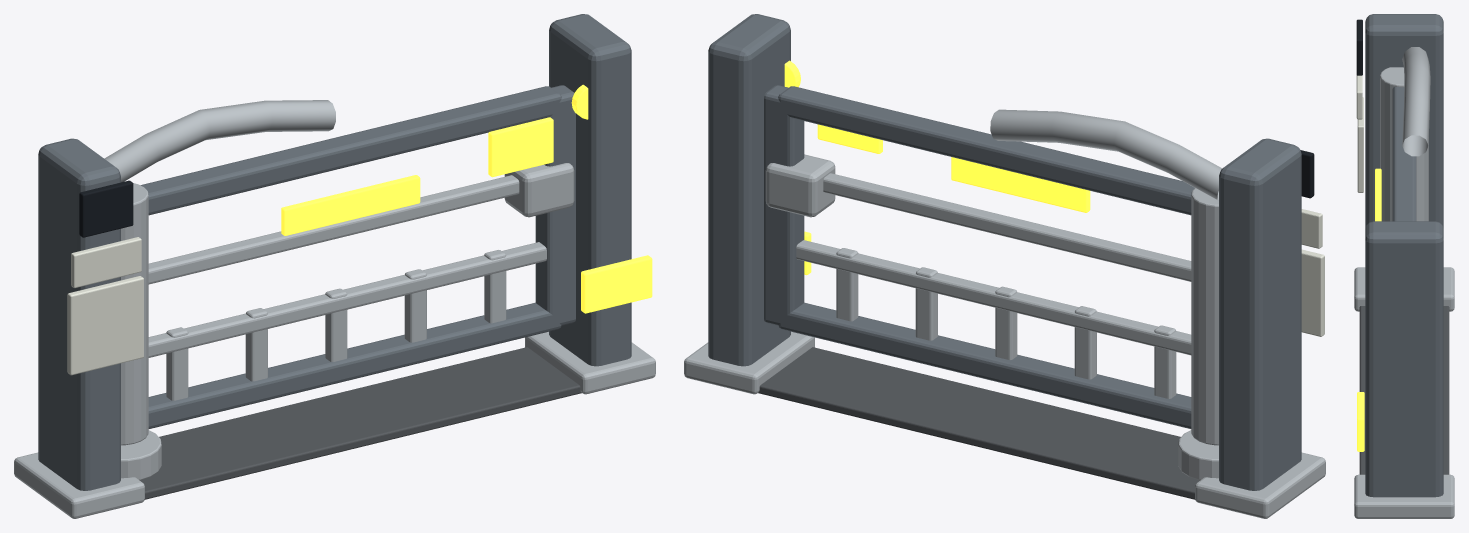
Rendered from state_variant_shared-world-accessibility-gate-locked-standard-310.glb.
The picture shows the model from 3 angles, left to right: view 1: azimuth 30°, elevation 25°; view 2: azimuth 150°, elevation 25°; view 3: azimuth 270°, elevation 25°; orthographic projection. The views are drawn at different scales.
Parts seen in each view (by area): view 1: component__flush_threshold__flush_threshold, component__anchored_gate_posts__left_gate_post, component__anchored_gate_posts__right_gate_post, component__accessible_gate_leaf__gate_top_rail, component__accessible_gate_leaf__gate_bottom_rail, component__accessible_gate_leaf__gate_horizontal_rail.001, component__closing_arm__closing_arm, component__accessible_gate_leaf__gate_horizontal_rail, component__wheelchair_height_push_plate__push_plate, component__accessible_gate_leaf__gate_latch_stile, component__closed_state_tab__closed_state_tab, component__hinge_barrel__hinge_barrel (+13 smaller); view 2: component__anchored_gate_posts__left_gate_post, component__flush_threshold__flush_threshold, component__anchored_gate_posts__right_gate_post, component__accessible_gate_leaf__gate_top_rail, component__accessible_gate_leaf__gate_bottom_rail, component__accessible_gate_leaf__gate_horizontal_rail, component__accessible_gate_leaf__gate_horizontal_rail.001, component__closing_arm__closing_arm, component__hinge_barrel__hinge_barrel, component__accessible_gate_leaf__gate_latch_stile, component__anchored_gate_posts__left_anchor, component__anchored_gate_posts__right_anchor (+11 smaller); view 3: component__anchored_gate_posts__right_gate_post, component__anchored_gate_posts__left_gate_post, component__hinge_barrel__hinge_barrel, component__closing_arm__closing_arm, component__anchored_gate_posts__right_anchor, component__accessible_gate_leaf__gate_top_rail, component__flush_threshold__flush_threshold, component__anchored_gate_posts__left_anchor, component__wheelchair_height_push_plate__push_plate, component__emergency_override__emergency_override, component__card_reader__card_reader, component__closed_state_tab__closed_state_tab (+1 smaller).
Boxes of the visible parts, x1,y1,x2,y2 form: component__flush_threshold__flush_threshold: [140, 347, 581, 499]; component__anchored_gate_posts__left_gate_post: [38, 138, 120, 490]; component__anchored_gate_posts__right_gate_post: [549, 14, 631, 366]; component__accessible_gate_leaf__gate_top_rail: [140, 86, 561, 215]; component__accessible_gate_leaf__gate_bottom_rail: [148, 302, 561, 428]; component__accessible_gate_leaf__gate_horizontal_rail.001: [148, 242, 546, 357]; component__closing_arm__closing_arm: [104, 100, 335, 182]; component__accessible_gate_leaf__gate_horizontal_rail: [148, 175, 519, 284]; component__wheelchair_height_push_plate__push_plate: [67, 276, 143, 375]; component__accessible_gate_leaf__gate_latch_stile: [535, 85, 575, 325]; component__closed_state_tab__closed_state_tab: [281, 175, 420, 235]; component__hinge_barrel__hinge_barrel: [121, 183, 148, 445]; component__anchored_gate_posts__left_gate_post: [1219, 138, 1301, 490]; component__flush_threshold__flush_threshold: [758, 347, 1199, 499]; component__anchored_gate_posts__right_gate_post: [708, 14, 790, 366]; component__accessible_gate_leaf__gate_top_rail: [778, 86, 1194, 215]; component__accessible_gate_leaf__gate_bottom_rail: [778, 302, 1191, 428]; component__accessible_gate_leaf__gate_horizontal_rail: [823, 173, 1191, 281]; component__accessible_gate_leaf__gate_horizontal_rail.001: [796, 240, 1191, 355]; component__closing_arm__closing_arm: [990, 109, 1222, 200]; component__hinge_barrel__hinge_barrel: [1191, 188, 1218, 445]; component__accessible_gate_leaf__gate_latch_stile: [764, 85, 804, 325]; component__anchored_gate_posts__left_anchor: [1195, 452, 1325, 518]; component__anchored_gate_posts__right_anchor: [684, 331, 814, 394]; component__anchored_gate_posts__right_gate_post: [1365, 221, 1443, 497]; component__anchored_gate_posts__left_gate_post: [1365, 14, 1443, 228]; component__hinge_barrel__hinge_barrel: [1380, 67, 1428, 221]; component__closing_arm__closing_arm: [1402, 47, 1430, 156]; component__anchored_gate_posts__right_anchor: [1354, 474, 1454, 518]; component__accessible_gate_leaf__gate_top_rail: [1392, 86, 1416, 221]; component__flush_threshold__flush_threshold: [1359, 306, 1449, 474]; component__anchored_gate_posts__left_anchor: [1354, 267, 1454, 311]; component__wheelchair_height_push_plate__push_plate: [1357, 97, 1363, 192]; component__emergency_override__emergency_override: [1357, 392, 1364, 451]; component__card_reader__card_reader: [1356, 19, 1362, 75]; component__closed_state_tab__closed_state_tab: [1375, 168, 1381, 221].
Size of the model in its own units: 2.47 by 1.38 by 0.4416.
